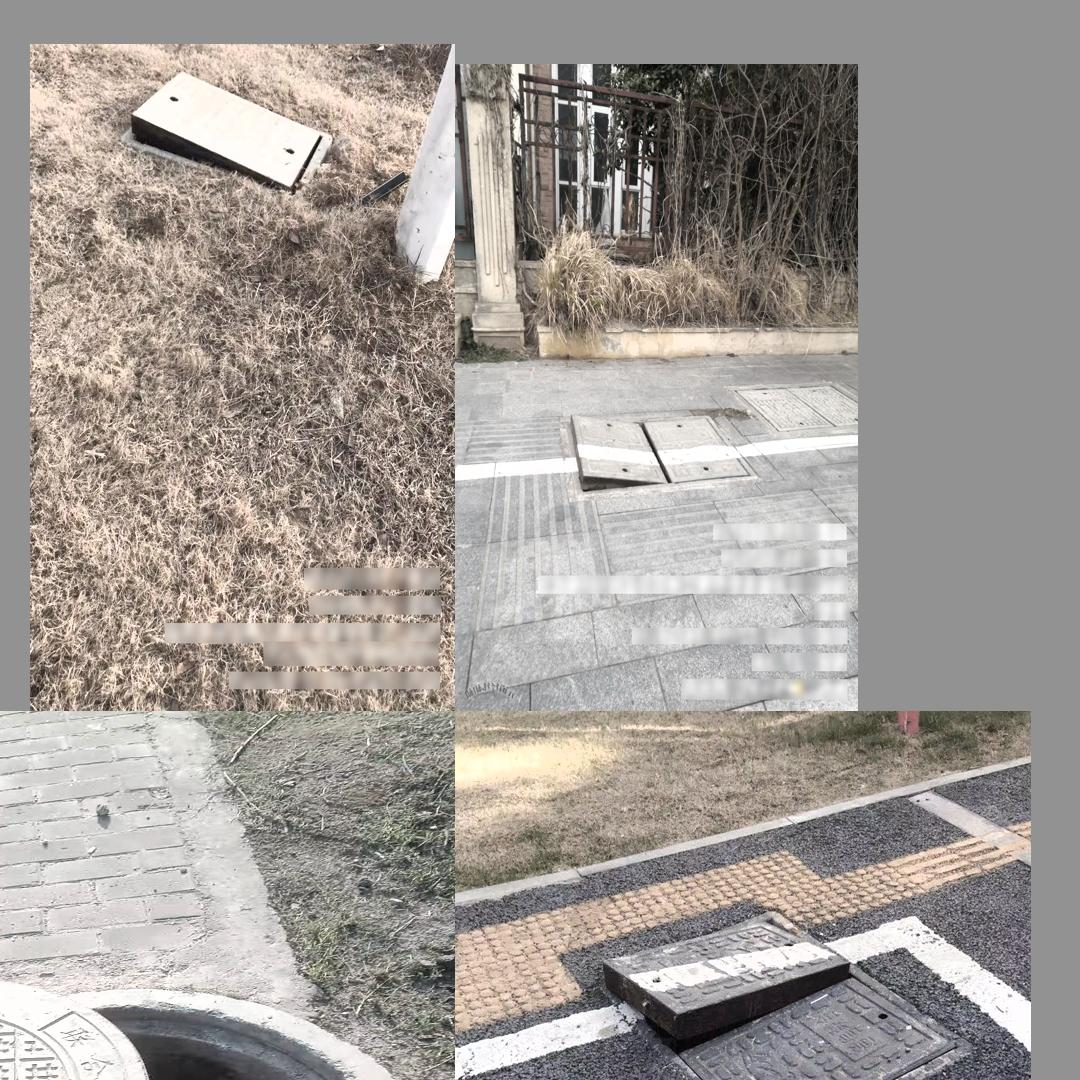good: (733, 381, 857, 437)
uncovered: (595, 912, 971, 1080), (0, 975, 428, 1080), (107, 64, 336, 185), (560, 412, 757, 500)
